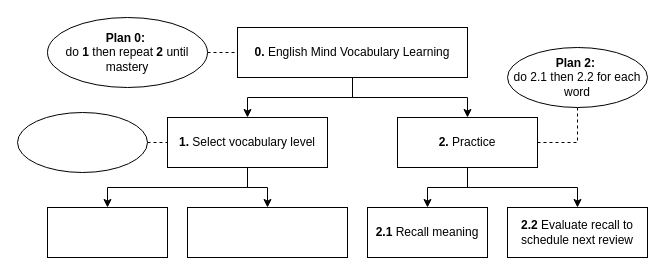
Image size: 665x275. Some labels were removed from this diagram. The shapes that lost their labels are listed below. From the top down, each one's centre as x and y in pixels, then its label:
[82,142]: Plan 1: do 1.1 then 1.2 as needed
[107,232]: 1.1 Browse words
[267,232]: 1.2 Classify words as "KNOW" or "LEARNING"
